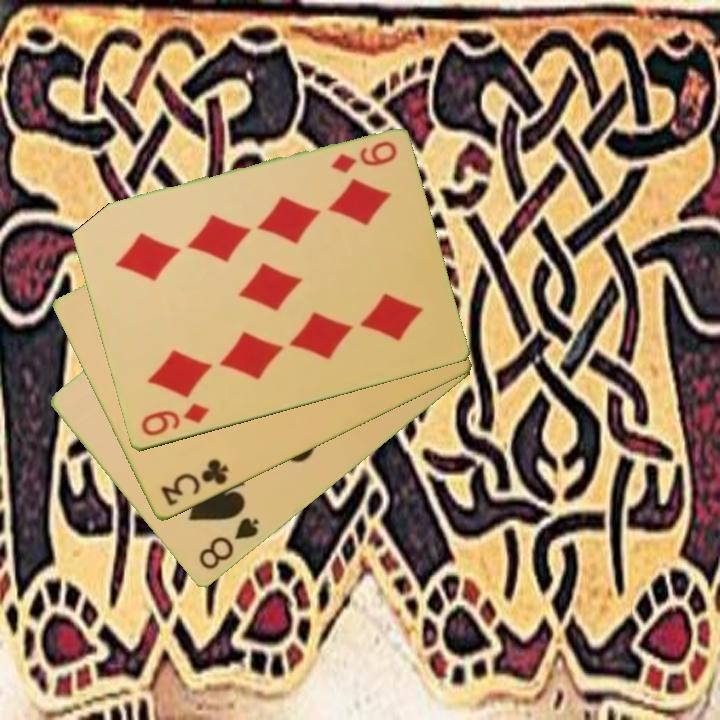3c: (157, 456, 232, 510)
8s: (195, 514, 263, 574)
9d: (137, 399, 212, 440), (327, 138, 400, 177)
